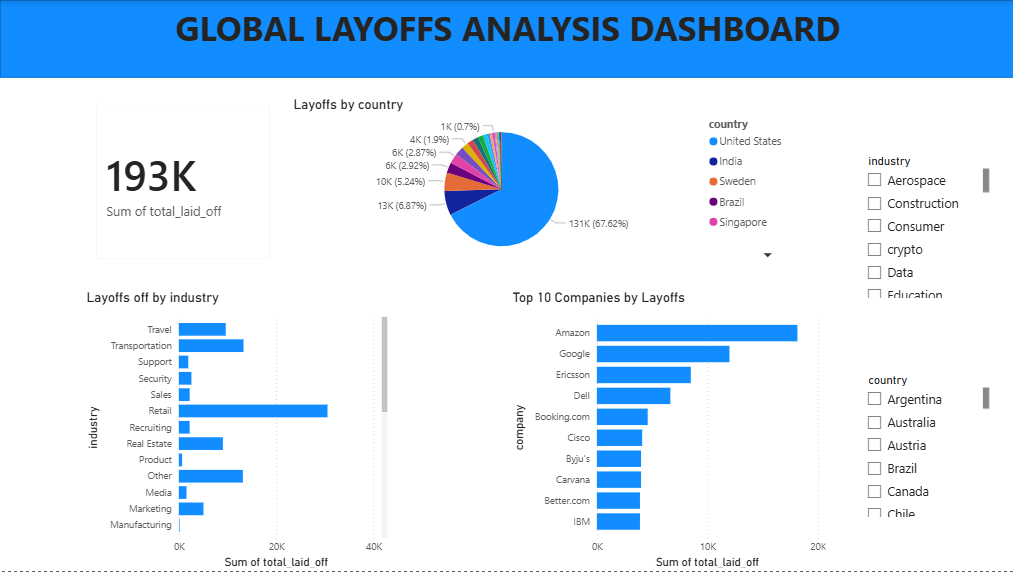

Layout of this report page (visuals, bound fields, positions):
{"tool":"powerbi","page":{"name":"Page 1","canvas":[1280,720],"ordinal":0},"visuals":[{"type":"cardVisual","fields":{"Data":["Sum(layoff_cleaned.total_laid_off)"]},"box":[103.9,113.4,253.2,230.6],"z":0},{"type":"clusteredBarChart","title":"Layoffs off by industry","fields":{"Category":["layoff_cleaned.industry"],"Y":["Sum(layoff_cleaned.total_laid_off)"]},"box":[103.9,364.7,389.3,355.3],"z":1},{"type":"clusteredBarChart","title":"Top 10 Companies by Layoffs","fields":{"Category":["layoff_cleaned.company"],"Y":["Sum(layoff_cleaned.total_laid_off)"]},"box":[640.6,364.7,404.4,355.3],"z":2},{"type":"pieChart","title":"Layoffs by country","fields":{"Category":["layoff_cleaned.country"],"Y":["Sum(layoff_cleaned.total_laid_off)"]},"box":[364.7,120.9,680.3,213.5],"z":3},{"type":"slicer","fields":{"Values":["layoff_cleaned.industry"]},"box":[1081,189,170.1,190.9],"z":4},{"type":"slicer","fields":{"Values":["layoff_cleaned.country"]},"box":[1081,464.9,170.1,190.9],"z":5},{"type":"textbox","box":[0,0,1279.4,71.8],"z":6},{"type":"shape","box":[0,0,1279.4,98.3],"z":7},{"type":"textbox","box":[0,0,1279.4,98.3],"z":8}]}

Visuals, with their boxes in screenshot pixels (x1, y1, x2, y2), scaled from the page's 1280x720 canvas onto the 1013x572 screenshot:
cardVisual - Sum(layoff_cleaned.total_laid_off): left=82, top=90, right=283, bottom=273
"Layoffs off by industry" clusteredBarChart: left=82, top=290, right=390, bottom=571
"Top 10 Companies by Layoffs" clusteredBarChart: left=507, top=290, right=827, bottom=571
"Layoffs by country" pieChart: left=289, top=96, right=827, bottom=266
slicer - layoff_cleaned.industry: left=856, top=150, right=990, bottom=302
slicer - layoff_cleaned.country: left=856, top=369, right=990, bottom=521
textbox: left=0, top=0, right=1012, bottom=57
shape: left=0, top=0, right=1012, bottom=78
textbox: left=0, top=0, right=1012, bottom=78
